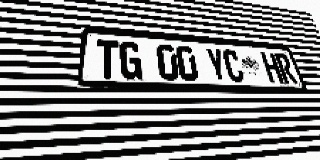0: (175, 45, 199, 81), (156, 44, 179, 81)
C: (222, 49, 246, 82)
G: (120, 41, 142, 80)
H: (260, 52, 284, 83)
R: (274, 53, 298, 84)
T: (95, 39, 119, 79)
Y: (205, 48, 229, 82)
